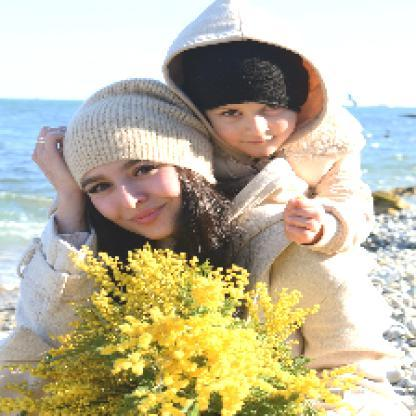child: (161, 2, 377, 257)
